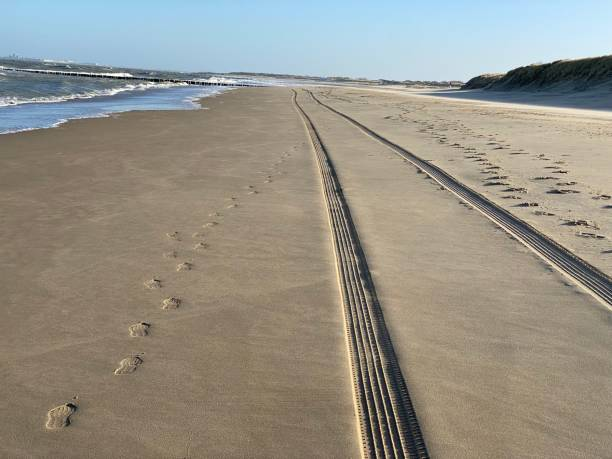human_footprint: (45, 399, 76, 429), (114, 354, 142, 374), (128, 322, 150, 337), (563, 219, 599, 228), (161, 297, 181, 309), (576, 231, 605, 239), (547, 188, 579, 194), (483, 178, 509, 185), (144, 278, 161, 288), (176, 262, 192, 271), (226, 196, 238, 208), (592, 193, 611, 200), (193, 242, 208, 250), (246, 185, 258, 195), (166, 231, 179, 240), (503, 187, 526, 192), (533, 210, 554, 215), (202, 221, 218, 227), (514, 202, 538, 206), (532, 176, 556, 180), (192, 231, 205, 238), (163, 250, 176, 257), (556, 181, 577, 185), (208, 211, 222, 217), (502, 195, 522, 199), (226, 202, 238, 208), (264, 174, 272, 182), (247, 189, 258, 194), (552, 170, 568, 173), (245, 185, 254, 190), (264, 178, 272, 183)
